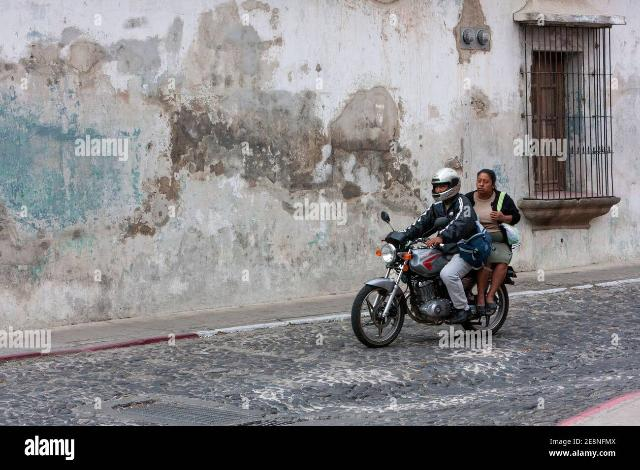helm: (433, 169, 462, 204)
motor: (353, 211, 520, 349)
non-helm: (477, 170, 497, 196)
